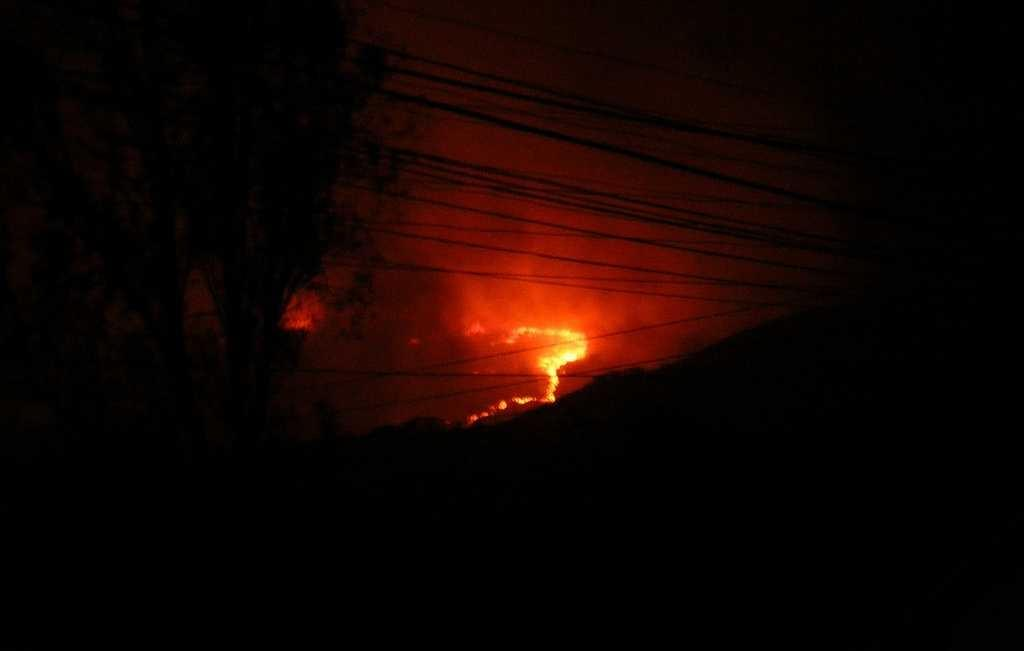fire: (542, 323, 588, 370)
